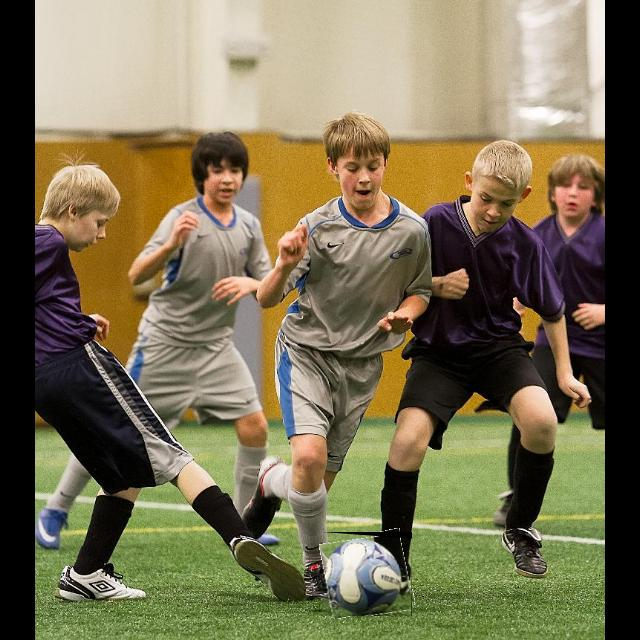Football: (322, 532, 412, 616)
